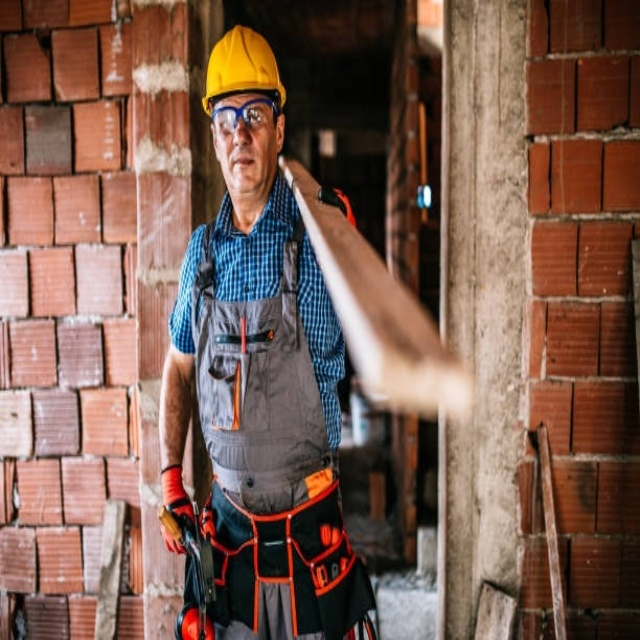Gafas: (211, 98, 279, 133)
Guantes: (155, 458, 200, 557), (319, 182, 352, 229)
Sin_mascara: (225, 146, 266, 187)
